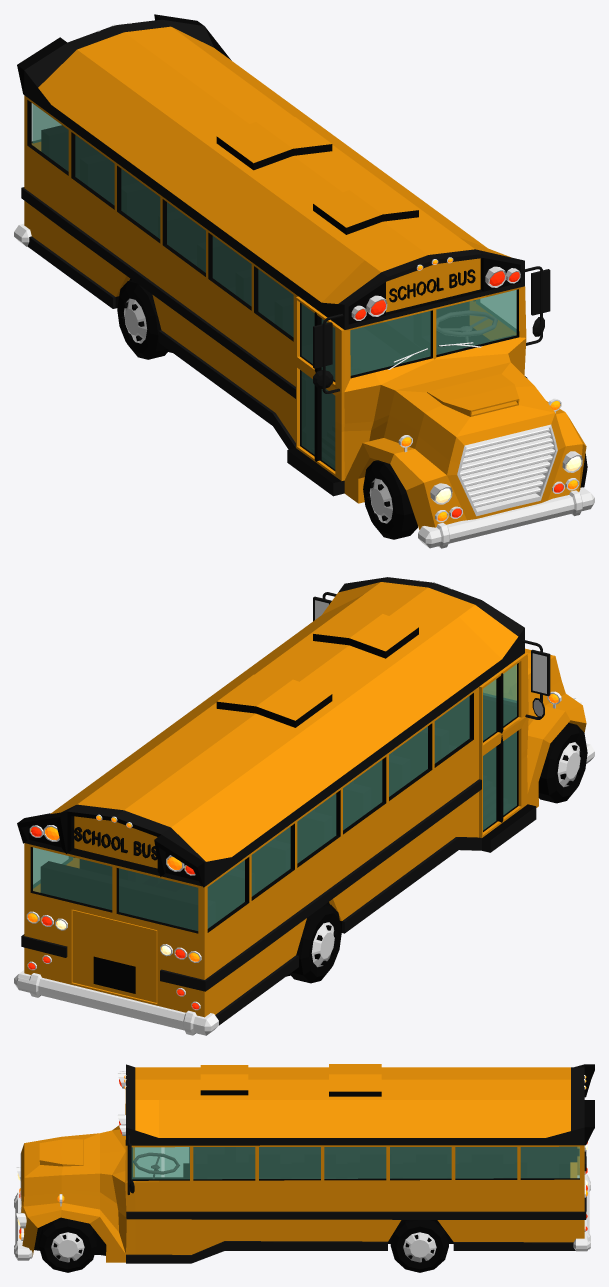
The picture shows the model from 3 angles, top to bottom: view 1: azimuth 30°, elevation 25°; view 2: azimuth 150°, elevation 25°; view 3: azimuth 270°, elevation 25°; orthographic projection. The views are drawn at different scales.
Parts seen in each view (by area): view 1: Schoolbus, interieur, grill, bumper_f, tire_f_r, lights, tires_b_r, mirrors, steeringWheel; view 2: Schoolbus, interieur, bumper_b, tire_f_r, tires_b_r, lights, mirrors; view 3: Schoolbus, interieur, tire_f_l, tires_b_l, lights, bumper_f, bumper_b, steeringWheel, mirrors.
Part boxes in pixels (x1,y1,x2,y2): Schoolbus: [17, 14, 586, 529]; interieur: [41, 125, 514, 469]; grill: [460, 428, 554, 507]; bumper_f: [418, 487, 594, 548]; tire_f_r: [363, 460, 417, 539]; lights: [97, 22, 582, 522]; tires_b_r: [117, 280, 172, 359]; mirrors: [313, 266, 550, 393]; steeringWheel: [436, 310, 497, 344]; Schoolbus: [17, 577, 586, 1025]; interieur: [40, 695, 516, 930]; bumper_b: [14, 970, 218, 1035]; tire_f_r: [538, 722, 587, 803]; tires_b_r: [286, 903, 341, 983]; lights: [26, 580, 581, 1010]; mirrors: [313, 592, 550, 719]; Schoolbus: [20, 1064, 594, 1263]; interieur: [131, 1146, 577, 1243]; tire_f_l: [38, 1217, 96, 1272]; tires_b_l: [390, 1220, 448, 1272]; lights: [16, 1071, 587, 1240]; bumper_f: [14, 1192, 32, 1260]; bumper_b: [573, 1174, 590, 1251]; steeringWheel: [133, 1152, 179, 1179]; mirrors: [127, 1135, 134, 1194].
Size of the model in its own units: 37.71 by 35.58 by 112.
